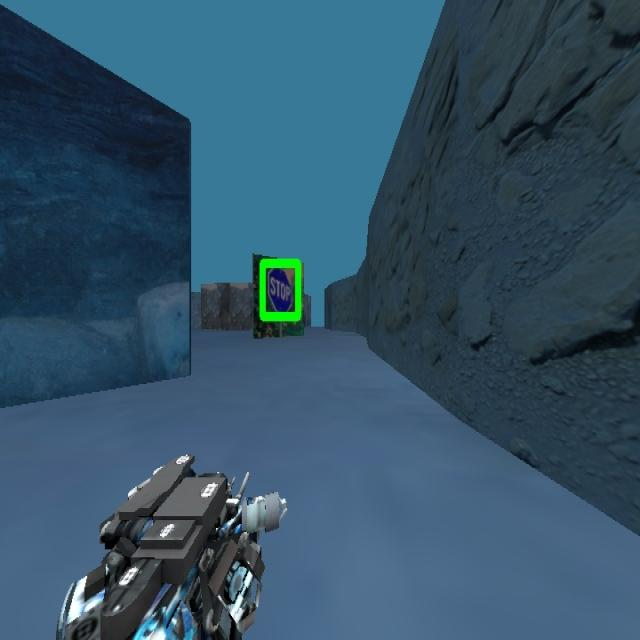Diamon: (258, 256, 303, 323)
